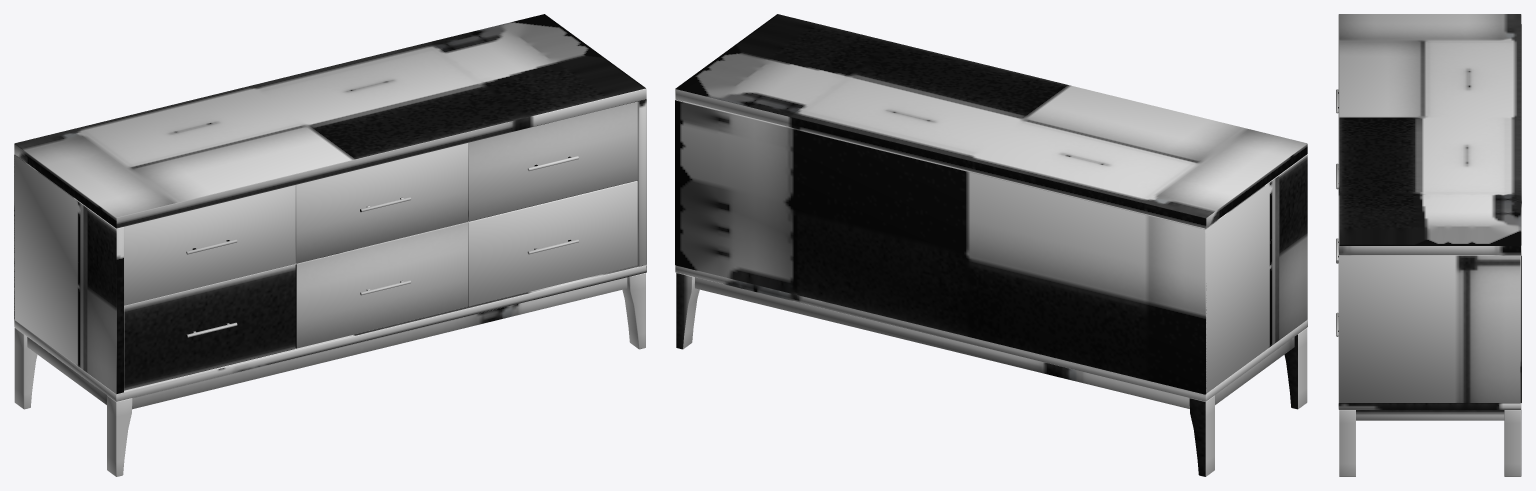
File: we-narrow6white_baked.glb
3 renders of one model, left to right at view 1: azimuth 30°, elevation 25°; view 2: azimuth 150°, elevation 25°; view 3: azimuth 270°, elevation 25°, orthographic. The views are drawn at different scales.
Parts seen in each view (by area): view 1: Mesh_0.008; view 2: Mesh_0.008; view 3: Mesh_0.008.
Part boxes in pixels (left/top/right/bottom): Mesh_0.008: left=14, top=14, right=646, bottom=476; Mesh_0.008: left=675, top=14, right=1307, bottom=476; Mesh_0.008: left=1336, top=14, right=1521, bottom=476.
Bounding box in the file's own units: 152 × 71.22 × 51.68.
Materials: 1 (1 with a texture image).
